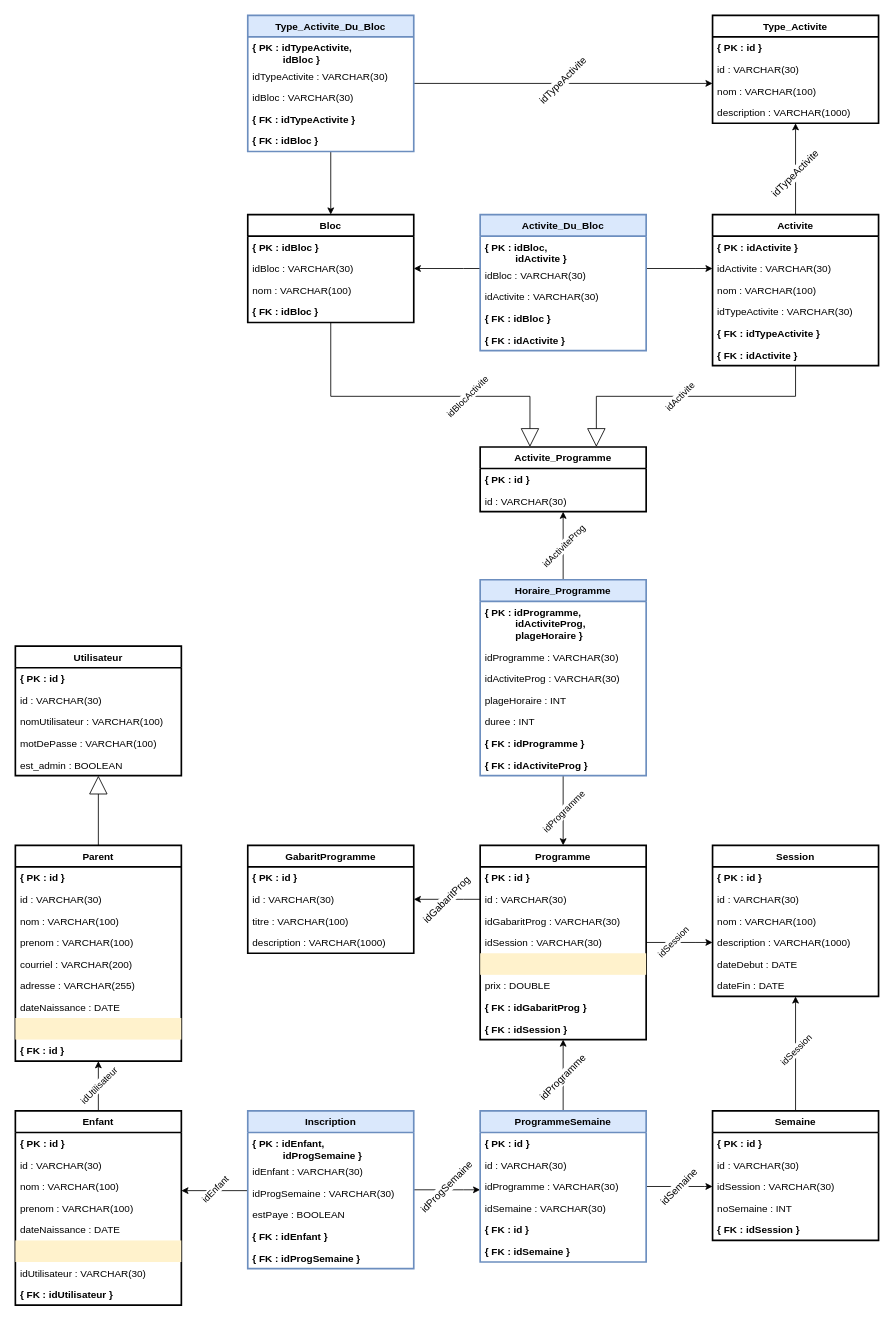
The diagram is 893 pixels wide and 1321 high, and some of its shapes have lost their labels. The shapes that lost their labels are listed below. From the top down, each one's centre as x and y in pixels, then its label:
the point at 563,963: animateurs : VARCHAR(300)
the point at 98,1028: urlPhoto : VARCHAR(200)
the point at 98,1251: photo : VARCHAR(200)
